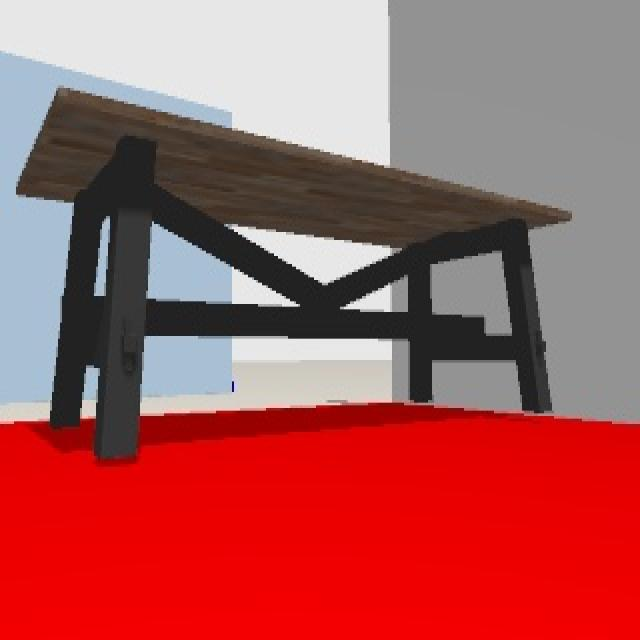dining: (22, 90, 574, 460)
